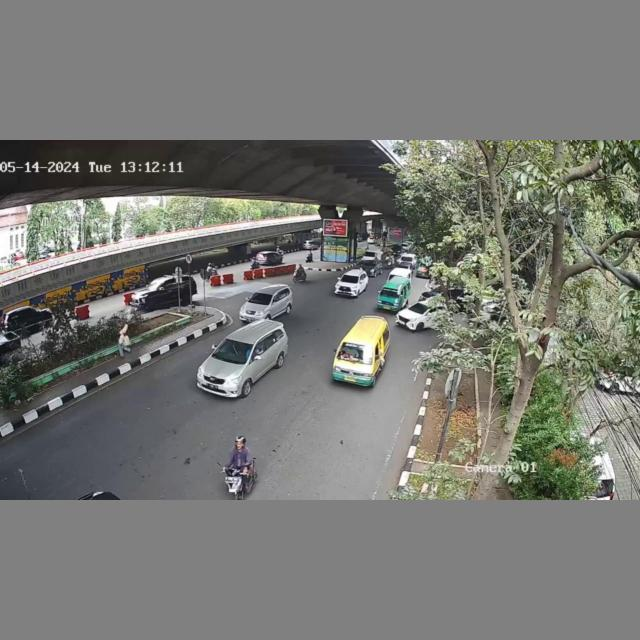windshield: (211, 338, 255, 363), (337, 341, 375, 363), (245, 289, 276, 306)
